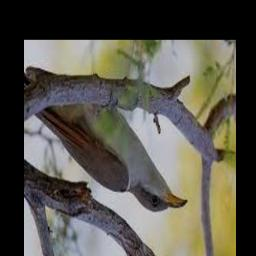Cuckoo: (33, 99, 186, 212)
